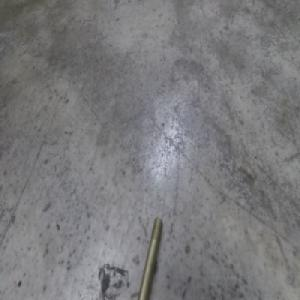Bolt: (134, 209, 161, 300)
